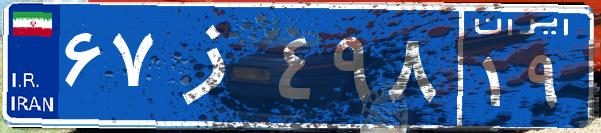1: (475, 38, 525, 113)
4: (273, 28, 330, 110)
6: (57, 26, 110, 107)
7: (110, 28, 158, 105)
8: (385, 28, 445, 110)
9: (330, 28, 385, 110), (525, 38, 570, 115)
ز: (158, 15, 273, 115)
